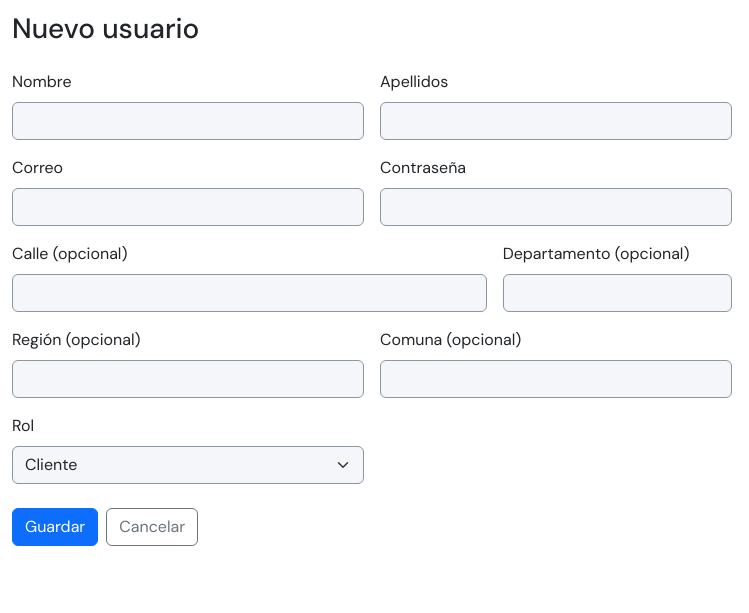
UsuarioForm › muestra errores si se envía vacío y no guarda
The width and height of the screenshot is (749, 613).
Click the button "Guardar" at [55, 527], box top-left (12, 508), bottom-right (98, 546)
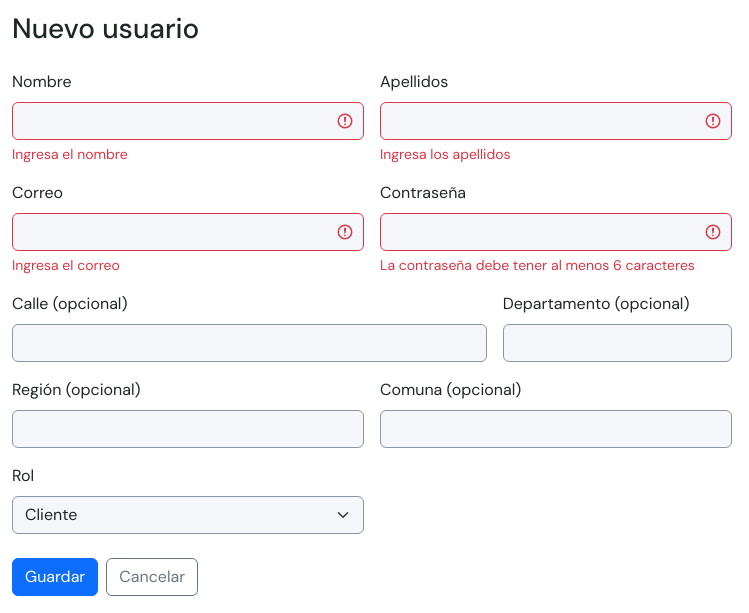
Now the text "Ingresa el nombre" is shown, box top-left (12, 145), bottom-right (128, 163)
Now the text "Ingresa los apellidos" is shown, box top-left (380, 145), bottom-right (511, 163)
Now the text "Ingresa el correo" is shown, box top-left (12, 256), bottom-right (120, 274)
